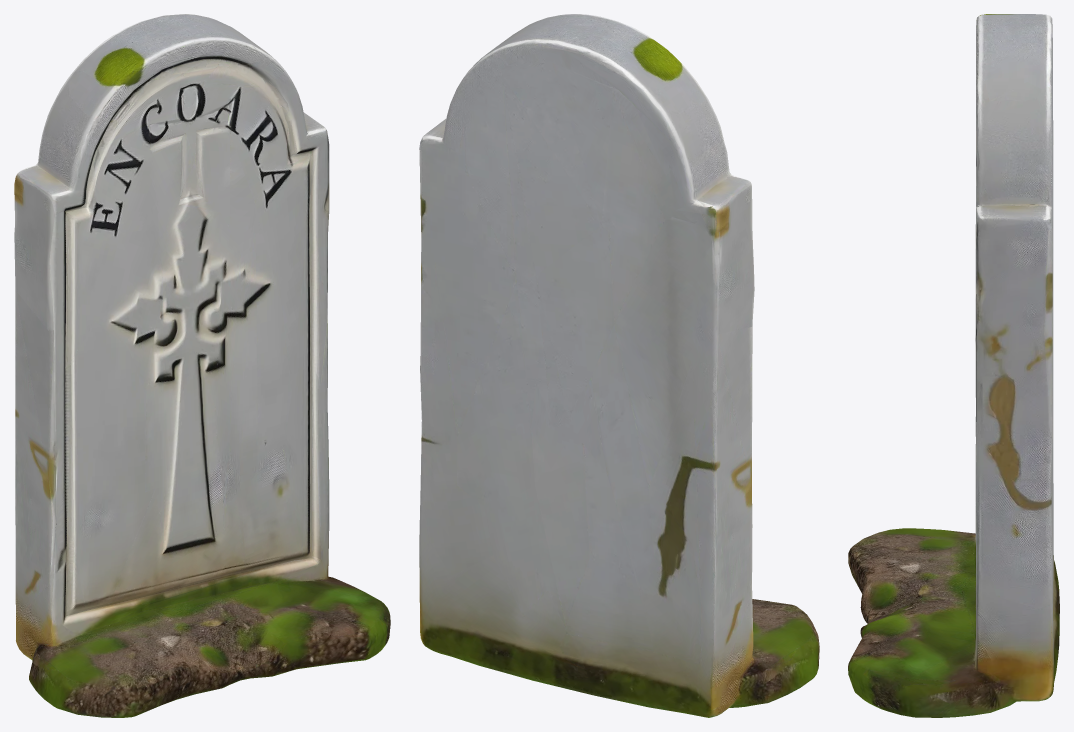
Rendered from gravestone.glb.
3 renders of one model, left to right at view 1: azimuth 30°, elevation 25°; view 2: azimuth 150°, elevation 25°; view 3: azimuth 270°, elevation 25°, orthographic. The views are drawn at different scales.
Bounding box in the file's own units: 1.09 × 1.9 × 0.5975.
1 material, 1 textured.
